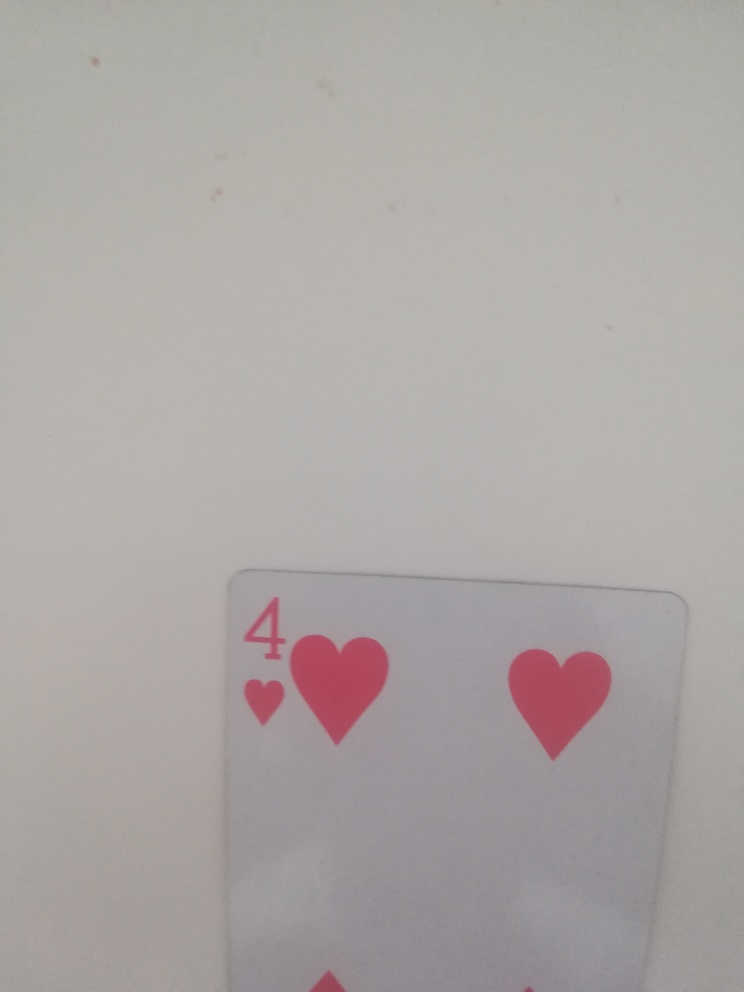4H: (238, 588, 294, 736)
